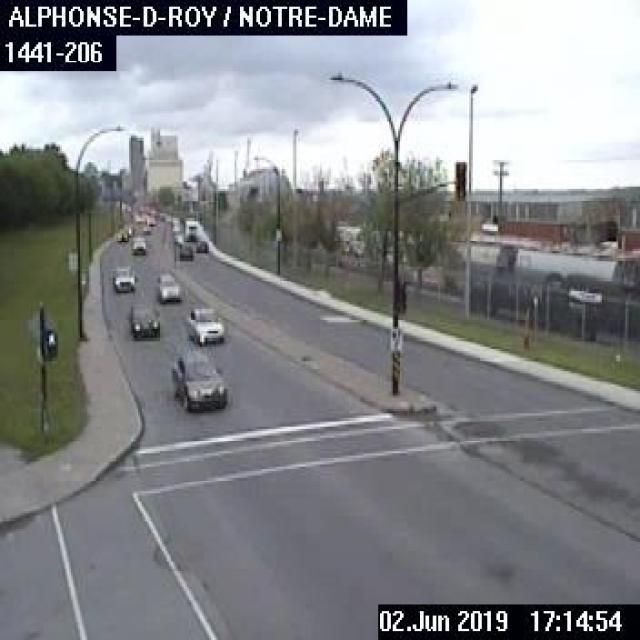vehicle: (169, 351, 226, 411), (186, 302, 223, 342), (126, 304, 158, 336), (155, 273, 178, 300), (112, 266, 133, 294), (182, 216, 198, 242), (130, 233, 145, 253), (194, 236, 208, 254), (178, 244, 189, 258), (115, 230, 128, 241)
